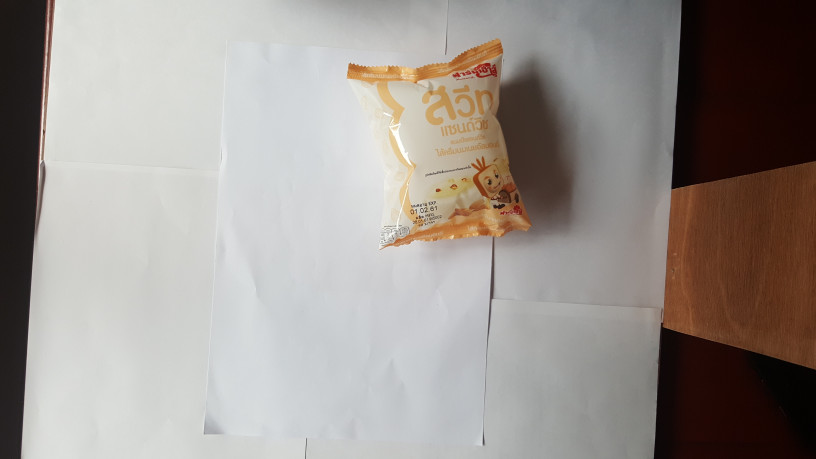farmhouse-sweetsandwich-almond: (341, 36, 539, 258)
